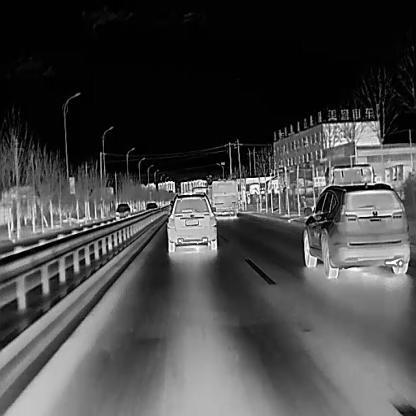car: (302, 180, 410, 279), (315, 162, 413, 202), (165, 190, 217, 252), (208, 179, 238, 215), (115, 202, 130, 220), (146, 201, 157, 212)
